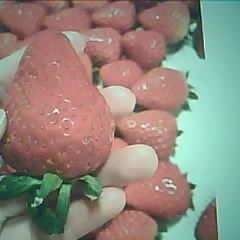straw-ripe: (3, 32, 116, 181)
